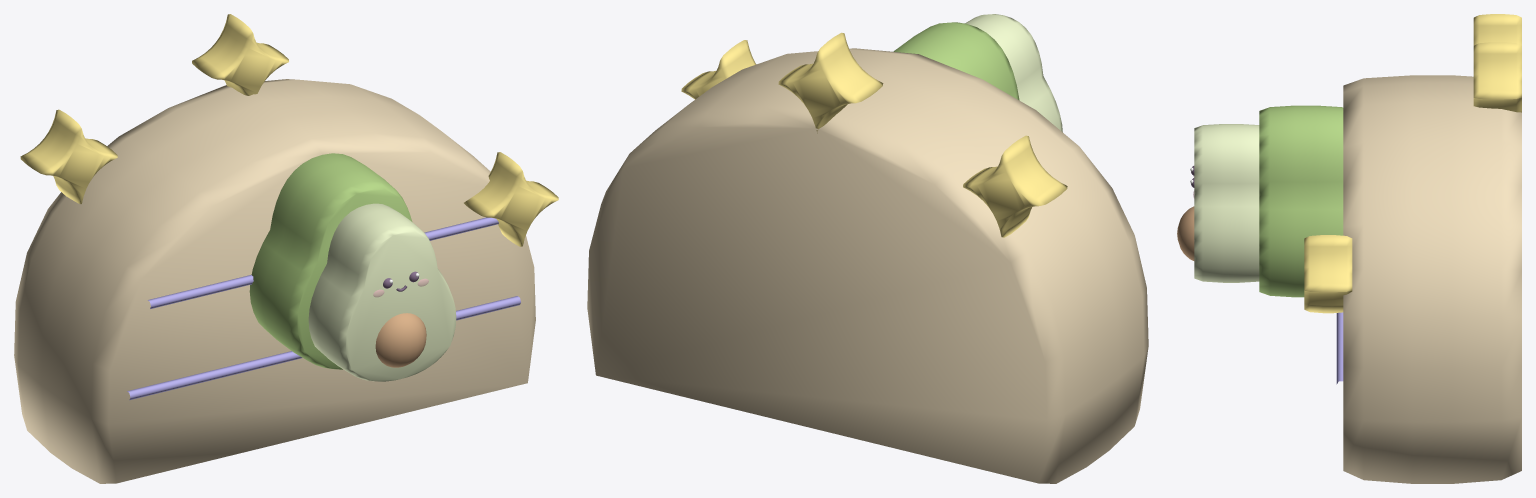
The model's file is decor_5_star.glb.
The picture shows the model from 3 angles, left to right: view 1: azimuth 30°, elevation 25°; view 2: azimuth 150°, elevation 25°; view 3: azimuth 270°, elevation 25°; orthographic projection. The views are drawn at different scales.
Parts seen in each view (by area): view 1: decor_5_star; view 2: decor_5_star; view 3: decor_5_star.
Part boxes in pixels (x1,y1,x2,y2): decor_5_star: [14, 14, 558, 483]; decor_5_star: [587, 14, 1148, 483]; decor_5_star: [1177, 14, 1521, 483].
Bounding box in the file's own units: 8.68 × 6.75 × 6.15.
